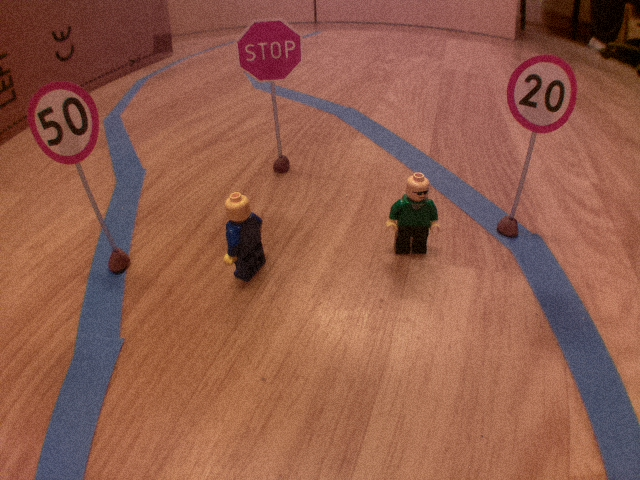LEGO_person: (382, 170, 444, 260), (221, 189, 274, 282)
ogr_20: (504, 53, 580, 135)
ogr_50: (24, 78, 102, 166)
stop: (233, 17, 306, 83)
